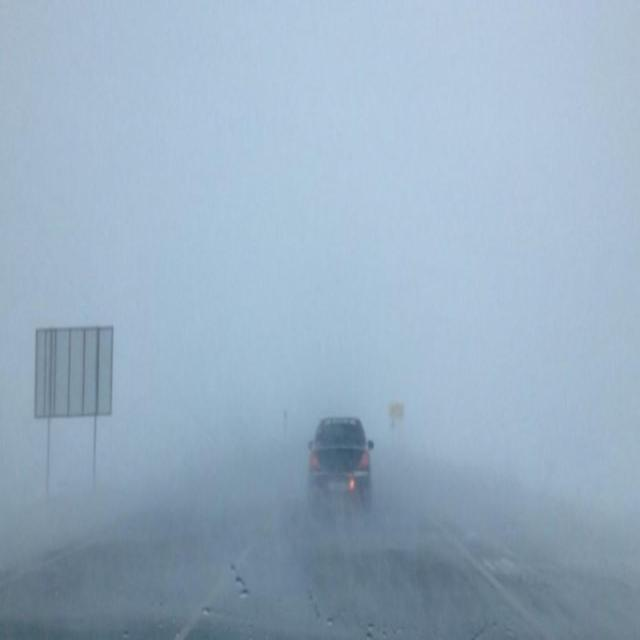Car: (296, 391, 384, 522)
